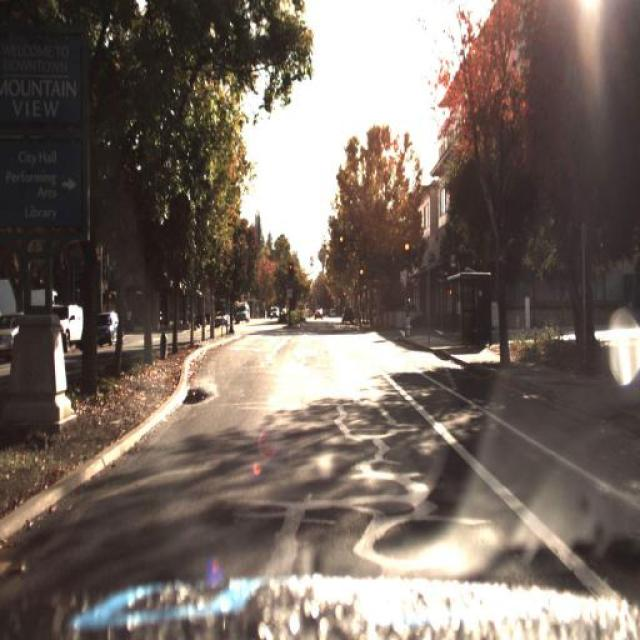car: (48, 296, 83, 356), (53, 298, 87, 348), (86, 304, 118, 348), (96, 307, 124, 344), (232, 298, 252, 324), (212, 310, 234, 330), (213, 308, 229, 328), (341, 305, 357, 325), (267, 303, 279, 326)
trafficLight-Green: (334, 228, 345, 253)
trafficLight-RedLeft: (401, 238, 411, 268), (284, 252, 294, 276), (356, 260, 366, 284)
trafficLight-Yellow: (284, 262, 297, 288)
trafficLight-YellowLeft: (400, 236, 410, 255), (356, 263, 366, 275)
